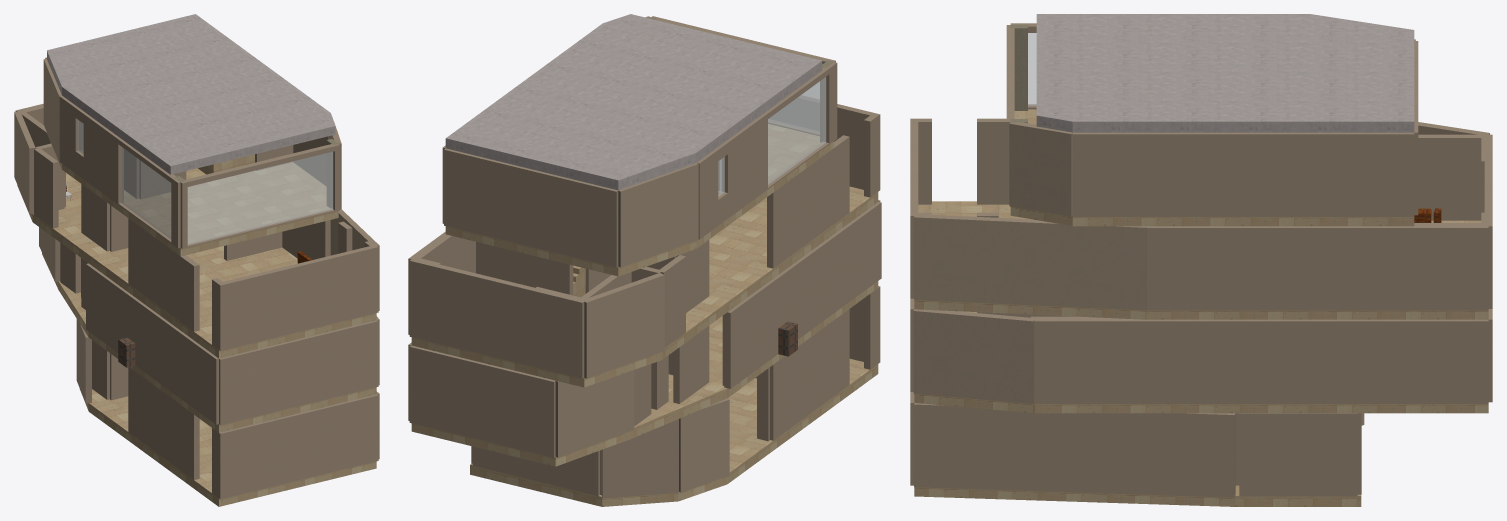
Rendered from villa-b1.glb.
3 renders of one model, left to right at view 1: azimuth 30°, elevation 25°; view 2: azimuth 150°, elevation 25°; view 3: azimuth 270°, elevation 25°, orthographic. The views are drawn at different scales.
Visible parts, largest first — view 1: floor_second, floor_first, floor_upper-ground, floor_stilt; view 2: floor_second, floor_first, floor_upper-ground, floor_stilt; view 3: floor_second, floor_first, floor_upper-ground, floor_stilt.
Part boxes in pixels (x1=…): floor_second: x1=43, y1=14, x2=341, y2=256; floor_first: x1=14, y1=103, x2=379, y2=358; floor_upper-ground: x1=39, y1=227, x2=379, y2=432; floor_stilt: x1=76, y1=319, x2=379, y2=506; floor_second: x1=442, y1=14, x2=837, y2=276; floor_first: x1=408, y1=96, x2=880, y2=387; floor_upper-ground: x1=408, y1=200, x2=881, y2=466; floor_stilt: x1=470, y1=286, x2=880, y2=506; floor_second: x1=1006, y1=14, x2=1418, y2=226; floor_first: x1=910, y1=118, x2=1492, y2=319; floor_upper-ground: x1=910, y1=298, x2=1492, y2=413; floor_stilt: x1=910, y1=392, x2=1364, y2=506.
Size of what is drawn, in the model's own units: 8 by 12.35 by 16.91.
10 materials, 8 textured.
